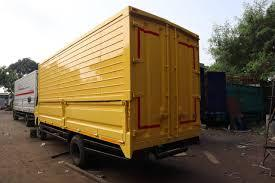truck: (37, 7, 206, 171), (11, 69, 38, 129)
